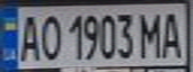0: (100, 11, 118, 61)
1: (63, 10, 84, 60)
3: (115, 10, 139, 60)
9: (81, 11, 100, 61)
A: (157, 8, 187, 59), (15, 11, 42, 62)
M: (136, 8, 163, 60)
O: (36, 11, 63, 62)
